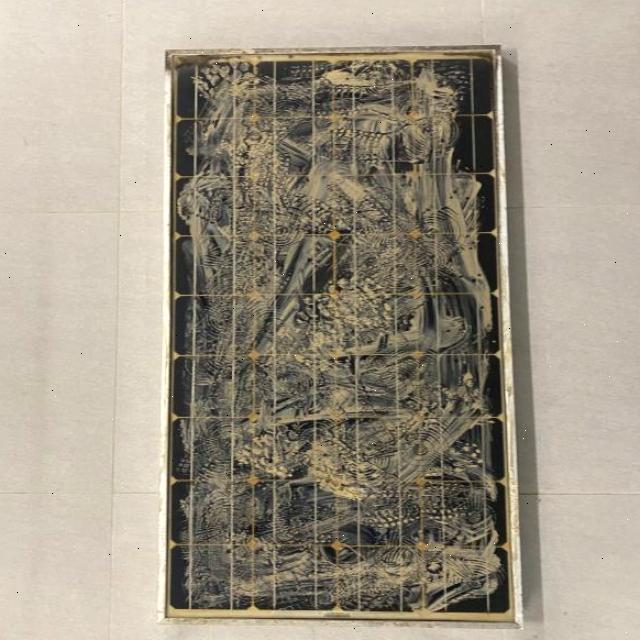Anomaly Solar Panel: (168, 58, 518, 616)
Surface Contaminant: (177, 60, 506, 614)
